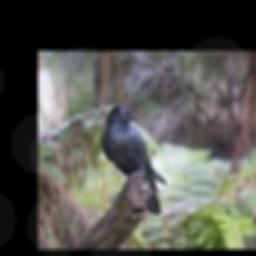Crow: (99, 105, 166, 192)
